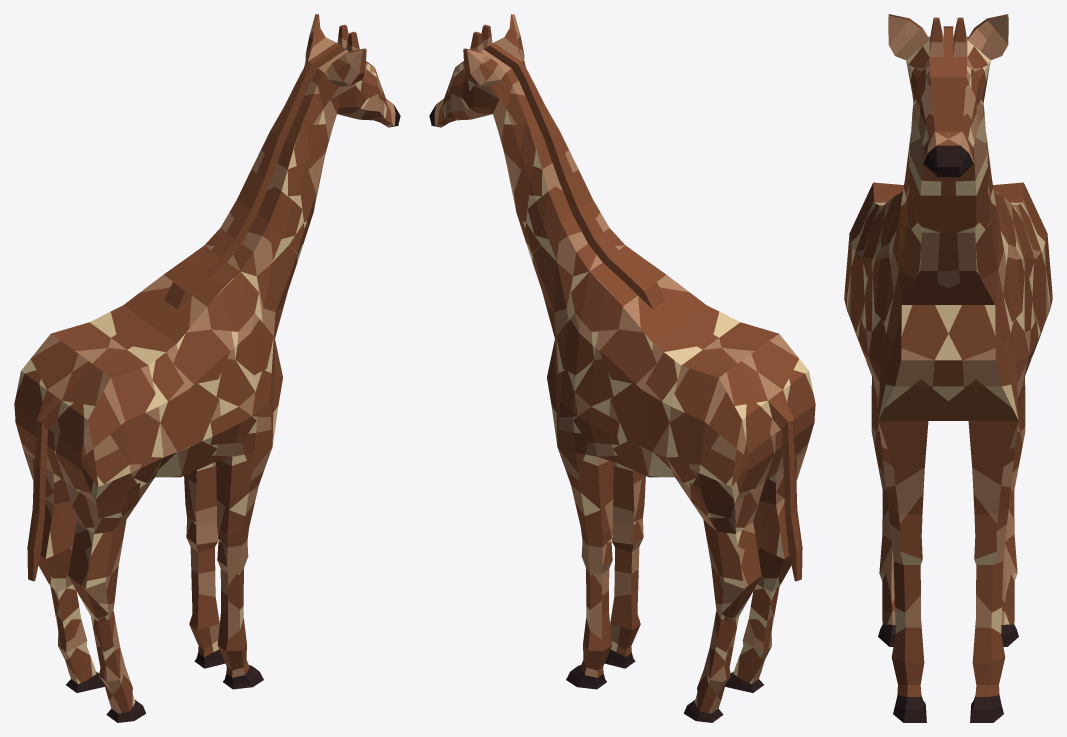
The model's file is Giraffe.glb.
3 renders of one model, left to right at view 1: azimuth 30°, elevation 25°; view 2: azimuth 150°, elevation 25°; view 3: azimuth 270°, elevation 25°, orthographic. The views are drawn at different scales.
Parts seen in each view (by area): view 1: giraffe; view 2: giraffe; view 3: giraffe.
Part boxes in pixels (left/top/right/bottom): giraffe: left=14, top=14, right=400, bottom=722; giraffe: left=429, top=14, right=815, bottom=722; giraffe: left=844, top=14, right=1052, bottom=722.
Size of the model in its own units: 2.92 by 4.65 by 1.15.
